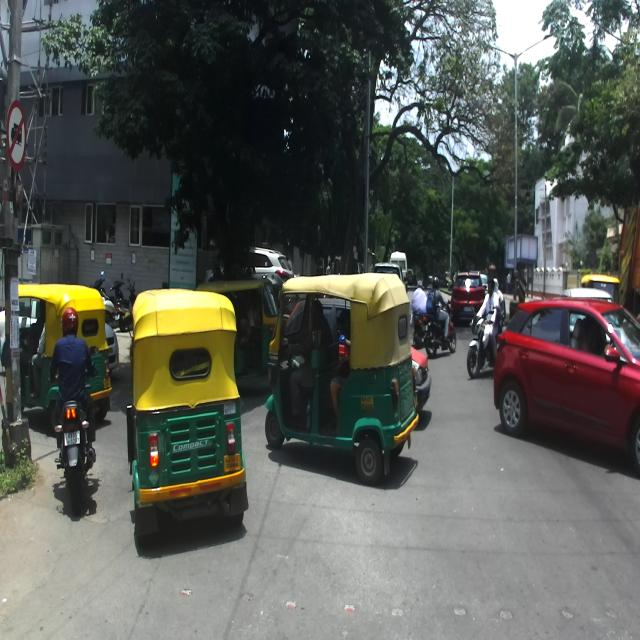auto ahead at: (268, 268, 415, 467), (134, 293, 248, 515)
car ahead at: (498, 293, 640, 462)
motorcycle ahead at: (44, 390, 102, 506)
